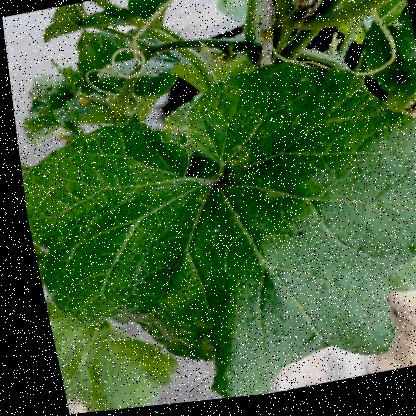Normal: (7, 44, 416, 415)
